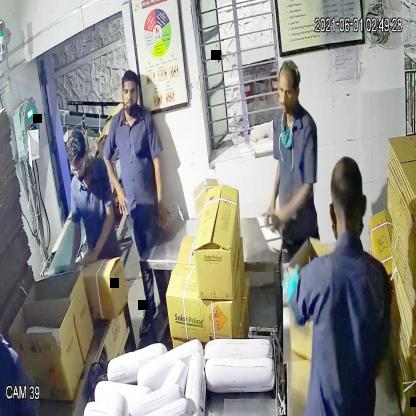goggles: (68, 156, 89, 178)
no_goggles: (275, 80, 301, 103), (119, 85, 141, 101)
